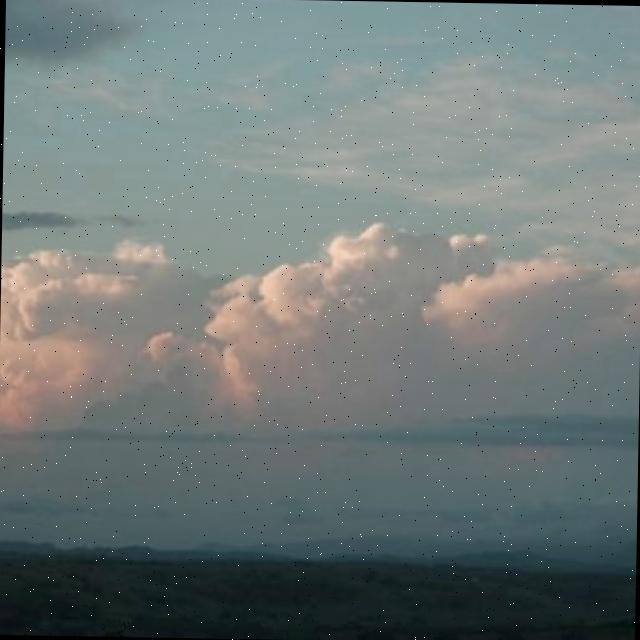Cb: (1, 206, 640, 453)
